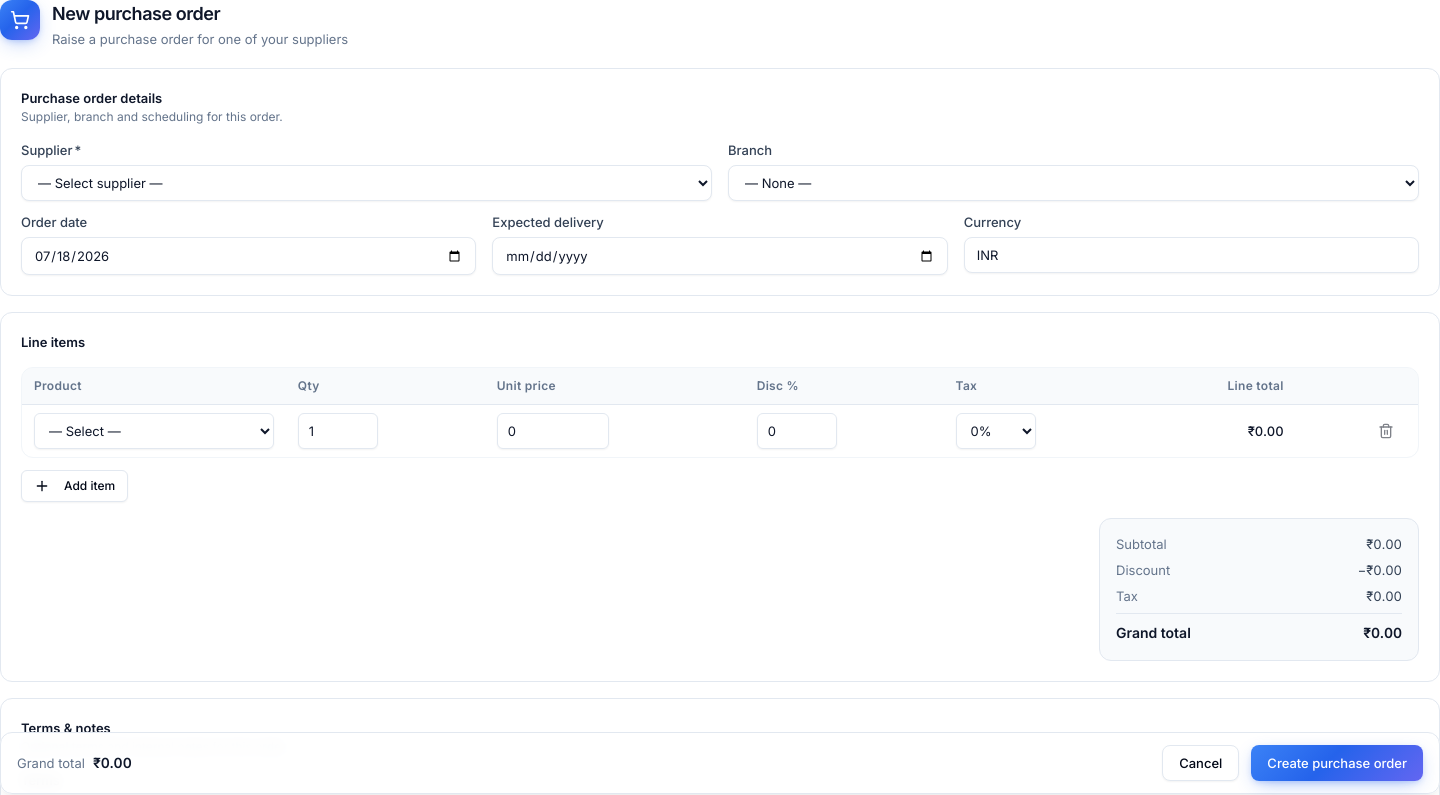
Test case: PurchaseOrderForm › surfaces a server error and does not navigate
This screenshot has width=1440, height=795.
Select "Acme Supply" in the dropdown labelled "Supplier*" at (366, 183), box [21, 165, 712, 201]
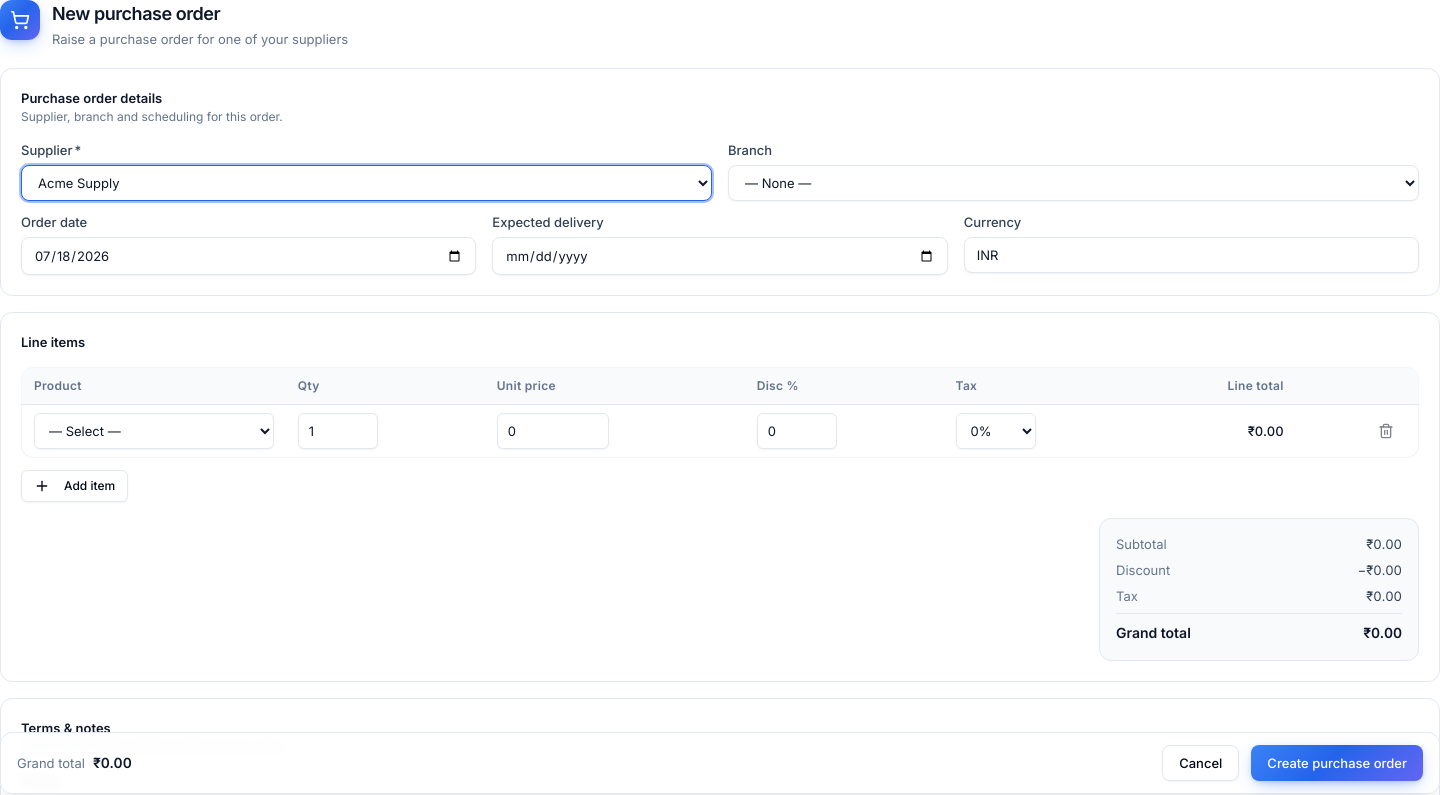
Select "Widget" in the dropdown named "Product for line 1" at (154, 430), box [34, 412, 274, 448]
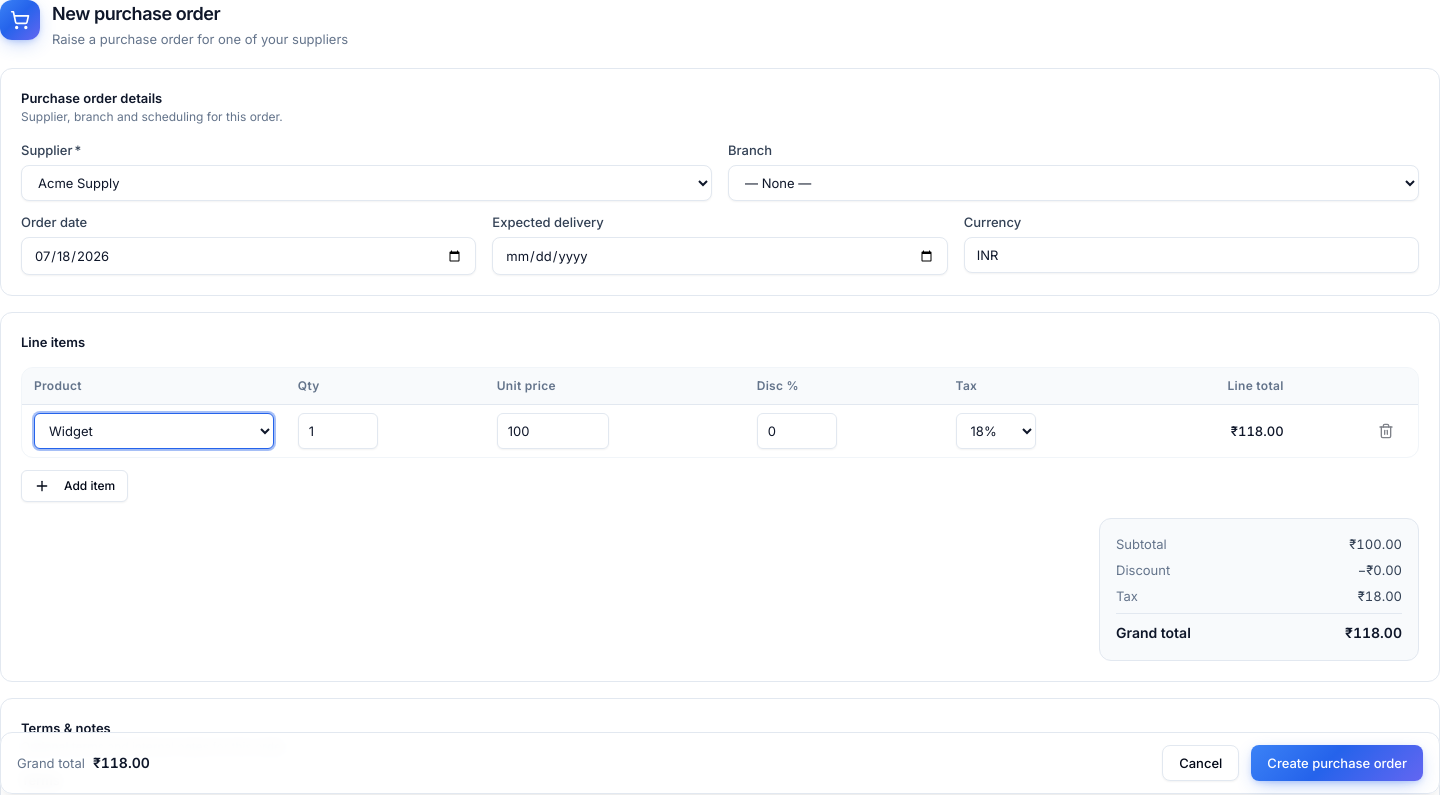
Click the button "Create purchase order" at (1337, 763), box [1251, 745, 1423, 781]
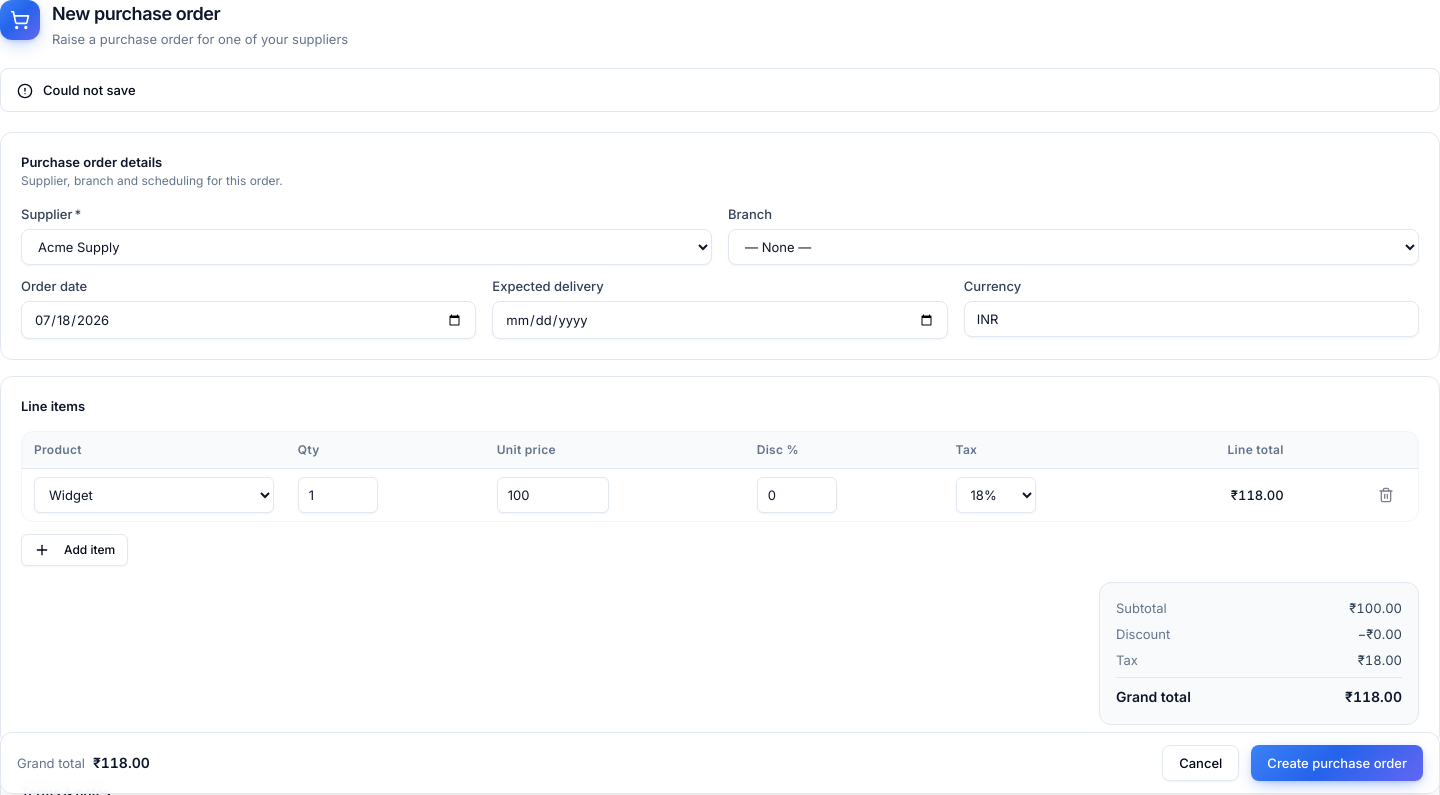
Expected: the text "Could not save" is shown, [43, 81, 136, 99]
